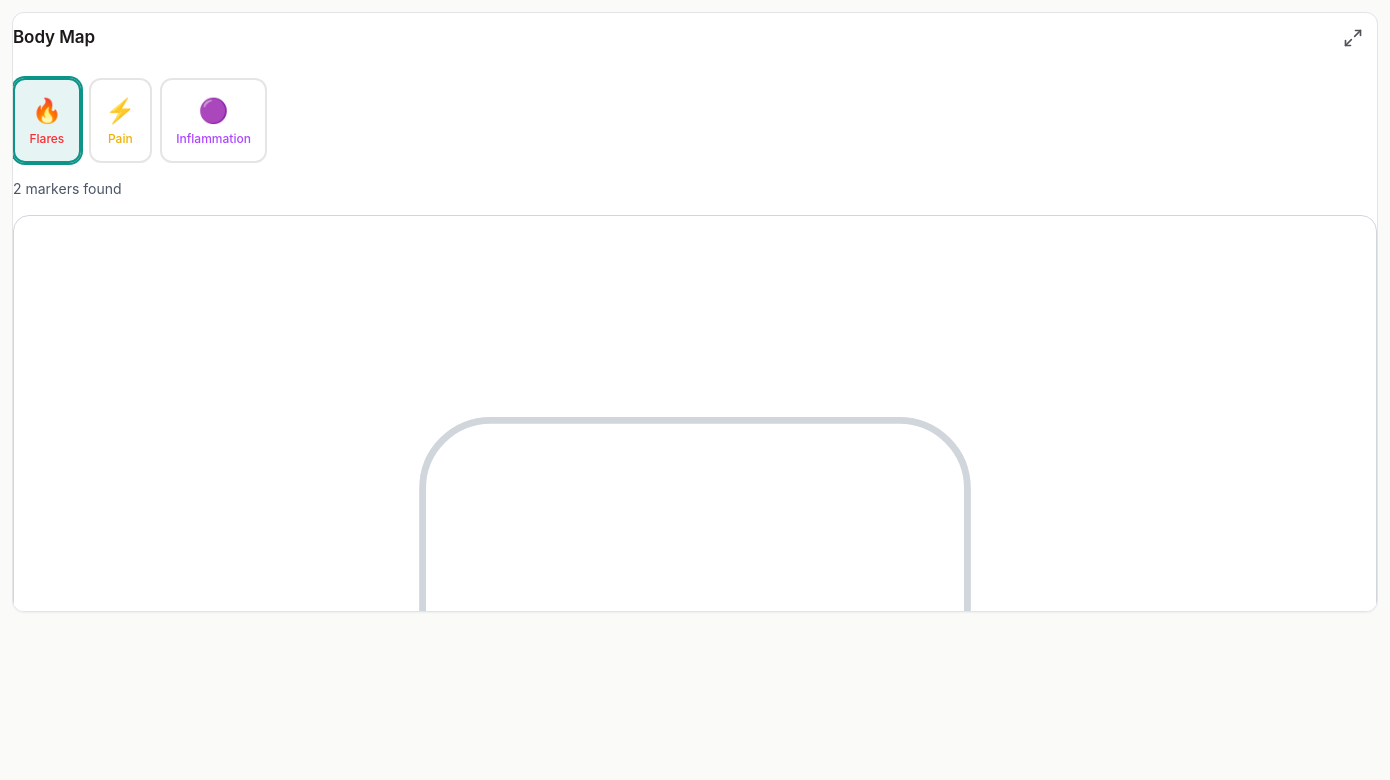
Test case: LayerAwareBodyMap › AC5.4.9: Real-time marker updates › shows updated marker count after layer change
Expected: the text "2 markers found" is shown, [13,180,122,197]
Step 1. Click the radio button with aria-label "pain layer" → click(120, 120), box [89,78,152,163]
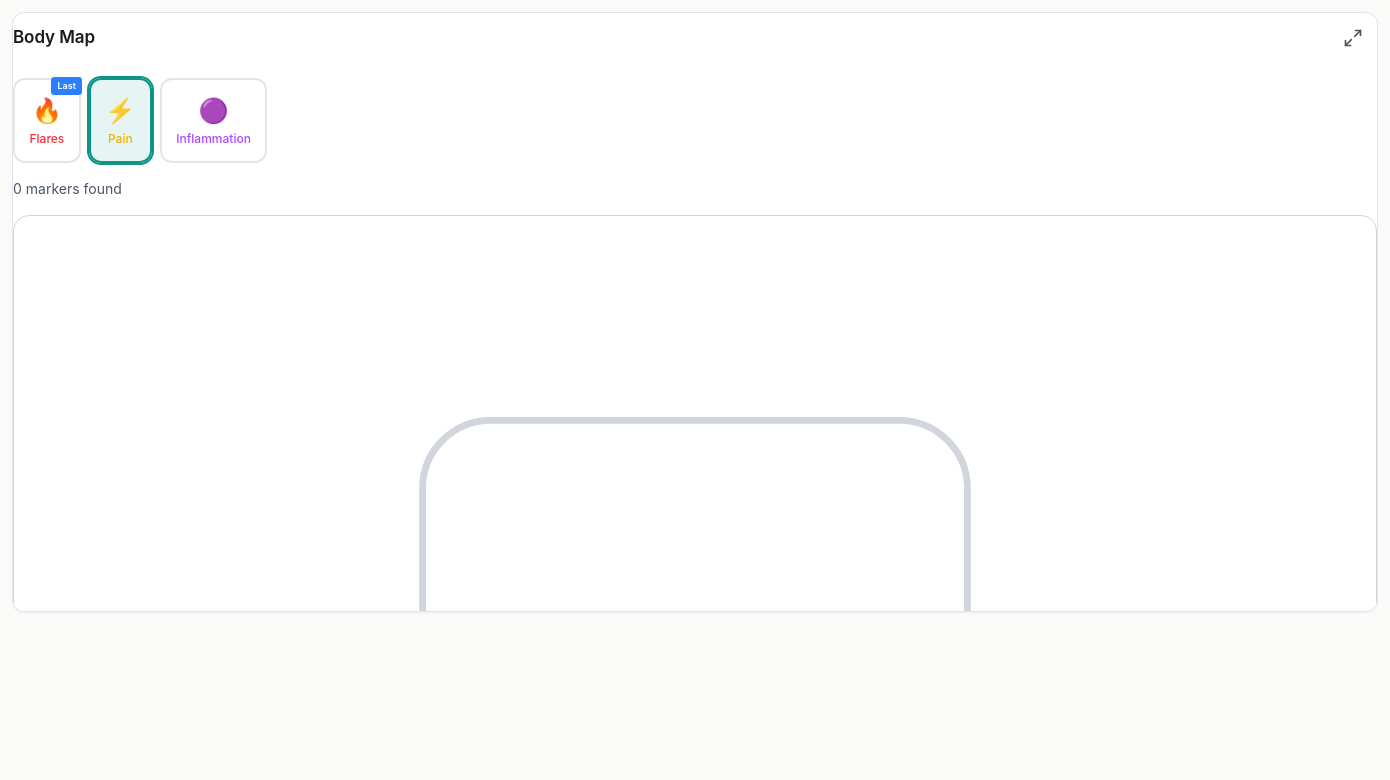
Result: the text "0 markers found" is shown at [13,180,122,197]
